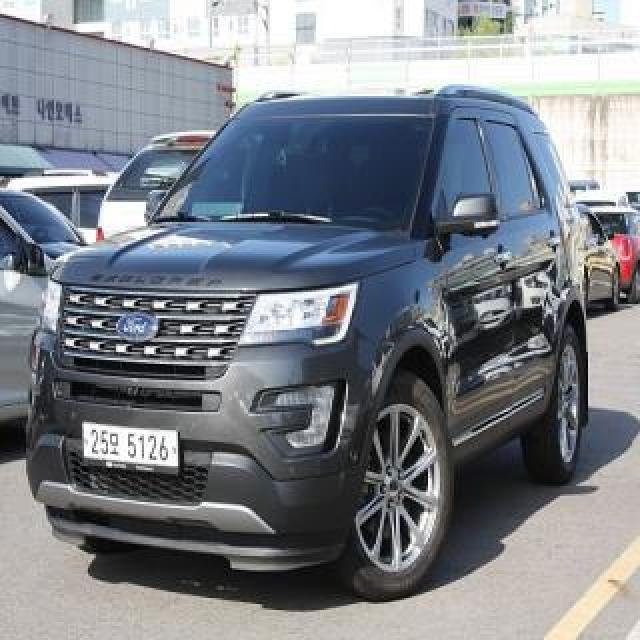car: (26, 77, 593, 602)
illegal_plate: (82, 417, 182, 478)
